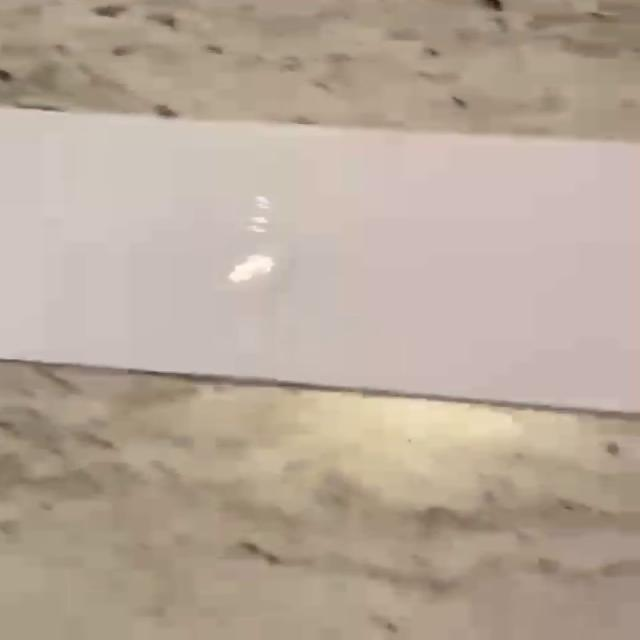road: (1, 108, 636, 411)
